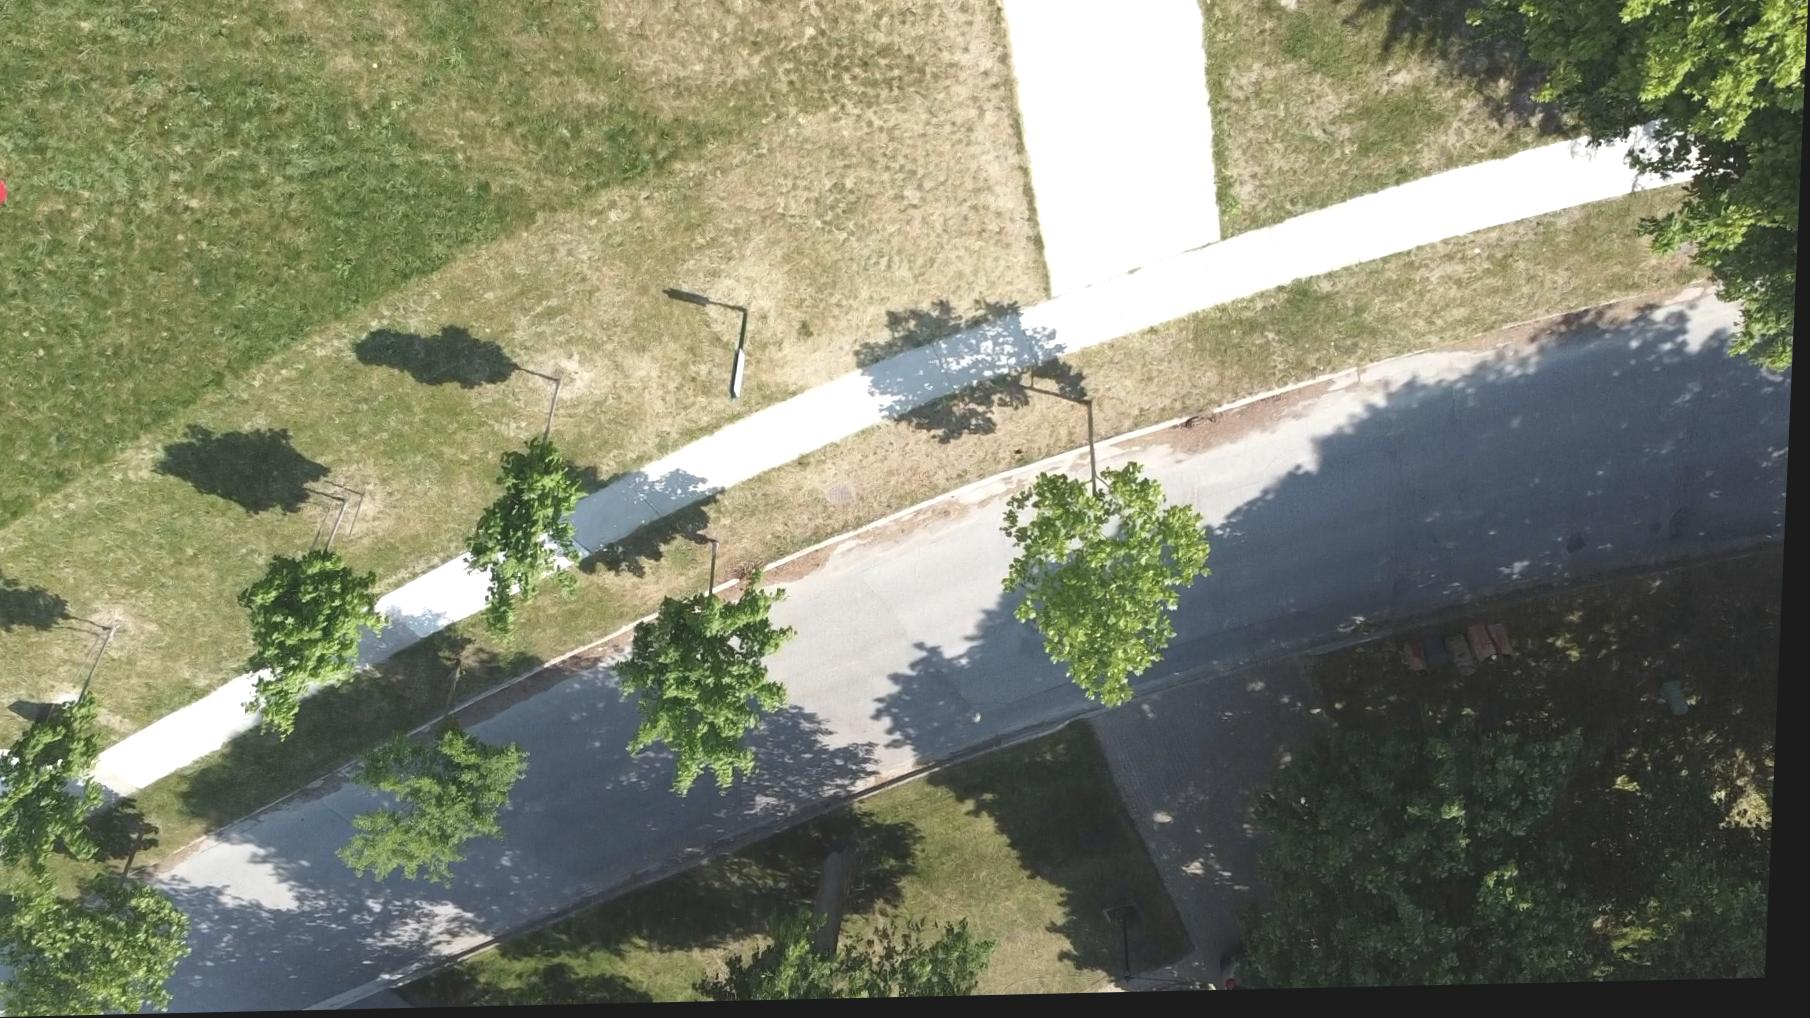Red: (0, 170, 10, 209)
